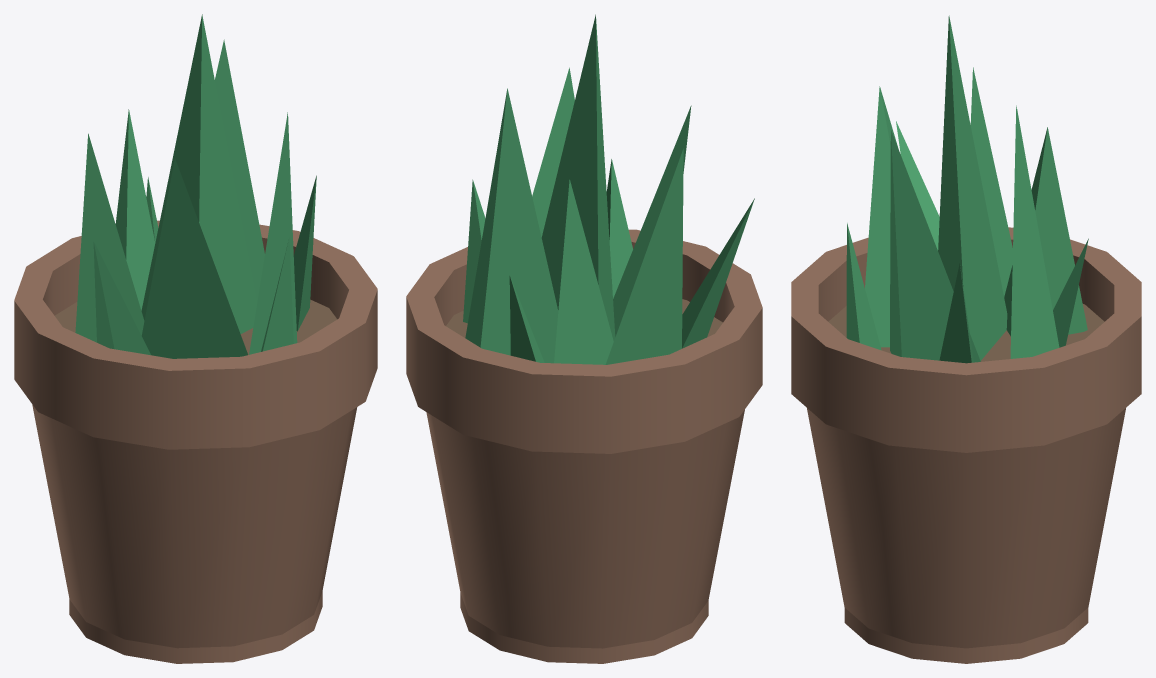
Rendered from Plant in Pot.fbx.
The picture shows the model from 3 angles, left to right: view 1: azimuth 30°, elevation 25°; view 2: azimuth 150°, elevation 25°; view 3: azimuth 270°, elevation 25°; orthographic projection. The views are drawn at different scales.
Parts seen in each view (by area): view 1: Light_Grass2; view 2: Light_Grass2; view 3: Light_Grass2.
Part boxes in pixels (left/top/right/bottom): Light_Grass2: left=14, top=14, right=377, bottom=663; Light_Grass2: left=406, top=14, right=762, bottom=663; Light_Grass2: left=791, top=15, right=1141, bottom=663.
Bounding box in the file's own units: 0.4005 × 0.732 × 0.3904.
